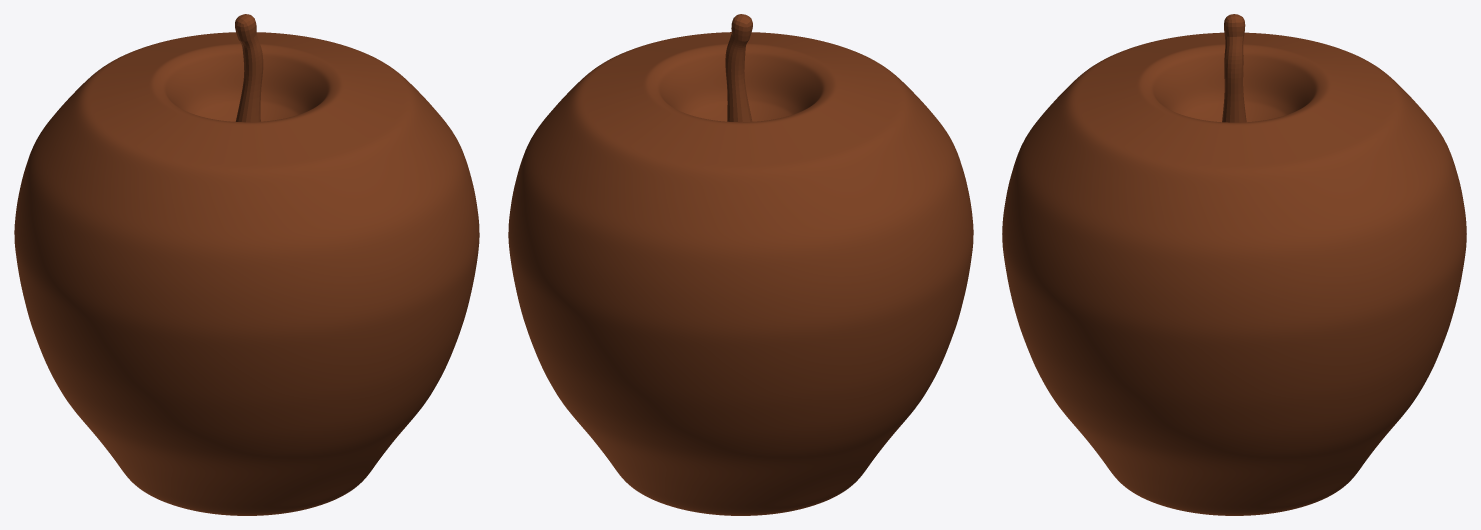
File: apple.fbx
3 views of the same model, side by side, from view 1: azimuth 30°, elevation 25°; view 2: azimuth 150°, elevation 25°; view 3: azimuth 270°, elevation 25° (orthographic).
Visible parts, largest first — view 1: Apple; view 2: Apple; view 3: Apple.
Boxes of the visible parts, x1,y1,x2,y2 form: Apple: (14,14,479,515); Apple: (508,14,973,515); Apple: (1002,14,1466,515).
Bounding box in the file's own units: 2.5 × 2.7 × 2.5.
